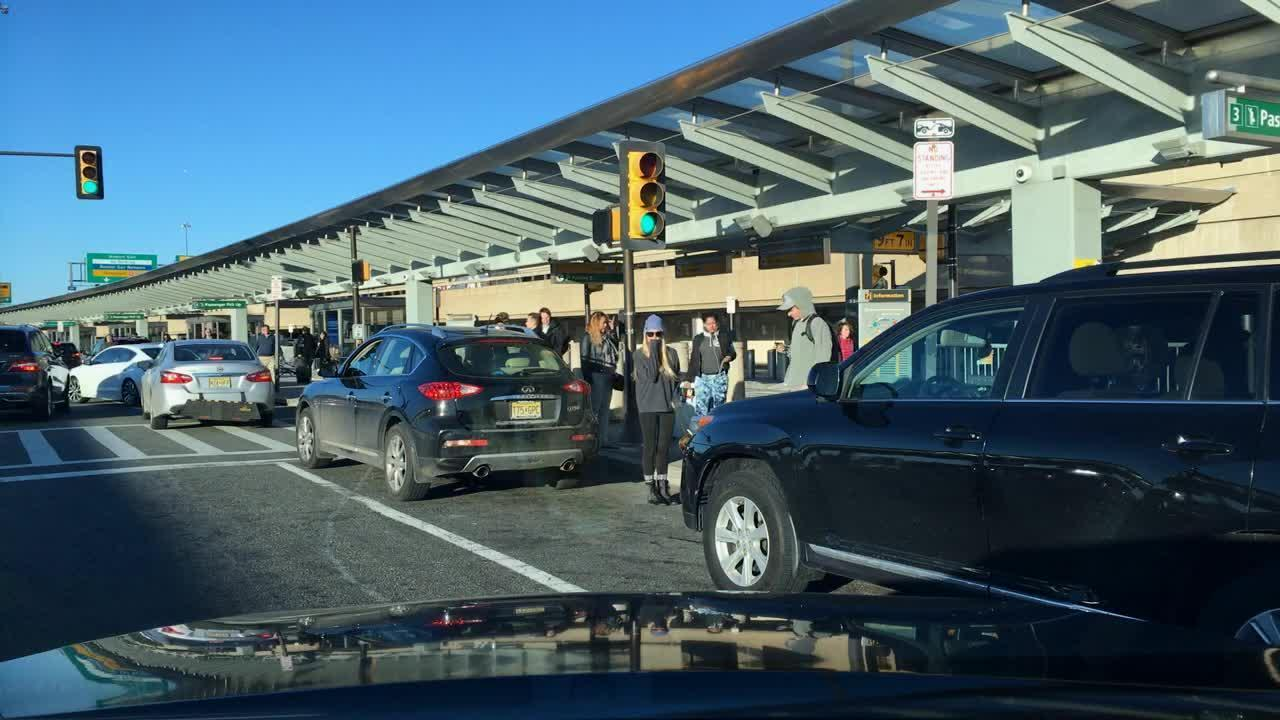Infiniti: (514, 377, 544, 397)
